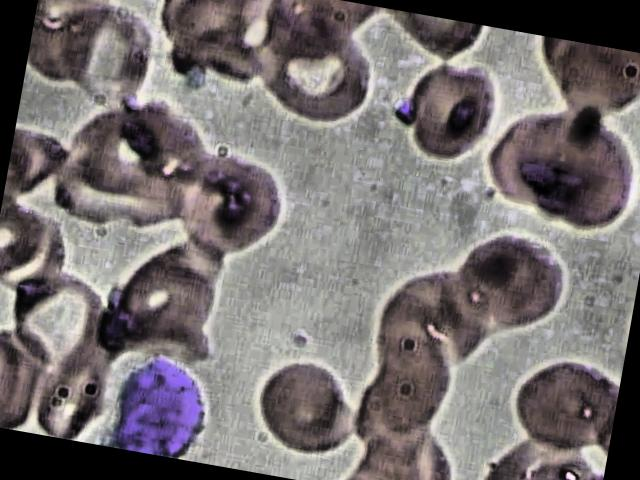Platelets: (381, 94, 421, 130)
RBC: (52, 89, 215, 232), (518, 110, 640, 242), (446, 222, 574, 338), (387, 255, 515, 371), (382, 51, 510, 167), (172, 145, 300, 261), (242, 349, 370, 465), (496, 341, 624, 457), (250, 18, 378, 134), (100, 245, 228, 361), (0, 257, 124, 373), (477, 100, 596, 220), (44, 0, 172, 111), (22, 334, 121, 446), (356, 416, 464, 480)
WBC: (103, 345, 235, 466)
